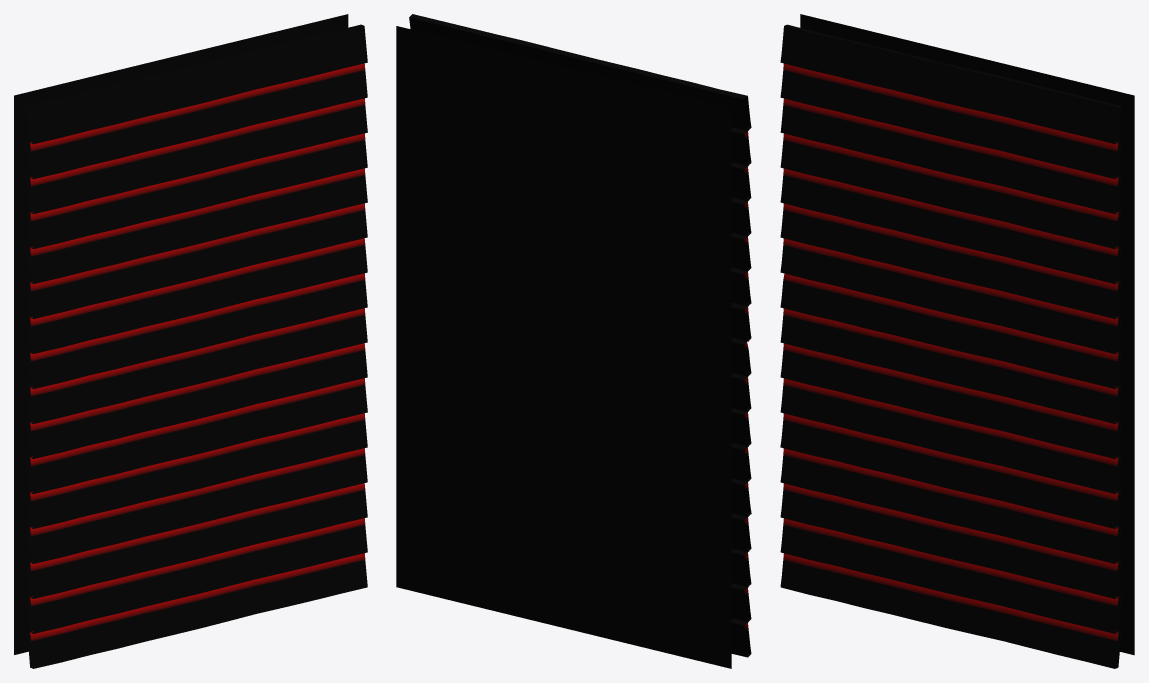
File: SM_House_ExtWall_200CM.fbx
3 renders of one model, left to right at view 1: azimuth 30°, elevation 25°; view 2: azimuth 150°, elevation 25°; view 3: azimuth 330°, elevation 25°, orthographic.
Parts seen in each view (by area): view 1: SM_House_ExtWall_200CM; view 2: SM_House_ExtWall_200CM; view 3: SM_House_ExtWall_200CM.
Boxes of the visible parts, <box> form: SM_House_ExtWall_200CM: <box>14,14,367,668</box>; SM_House_ExtWall_200CM: <box>396,14,751,668</box>; SM_House_ExtWall_200CM: <box>780,14,1134,668</box>.
Size of the model in its own units: 200 by 20.38 by 321.
